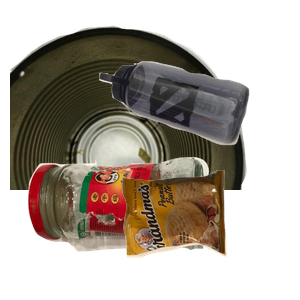glass: (25, 155, 227, 300)
metal: (10, 23, 250, 203)
plastic: (97, 59, 300, 197)
trash: (120, 168, 300, 300)
